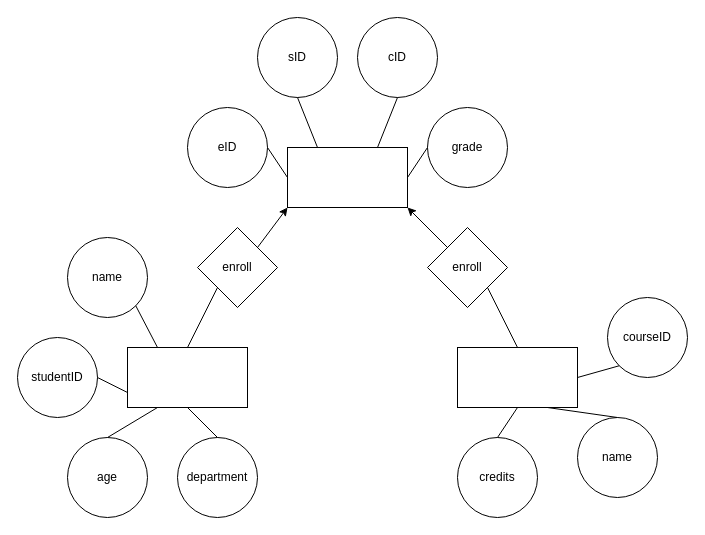
This 705x535 diagram has some shape labels left out. The box of each missing label's shape, as (x1, y1, x2, y2) in pixels:
Course: (456, 346, 578, 408)
Enrollments: (286, 146, 408, 208)
Student: (126, 346, 248, 408)
